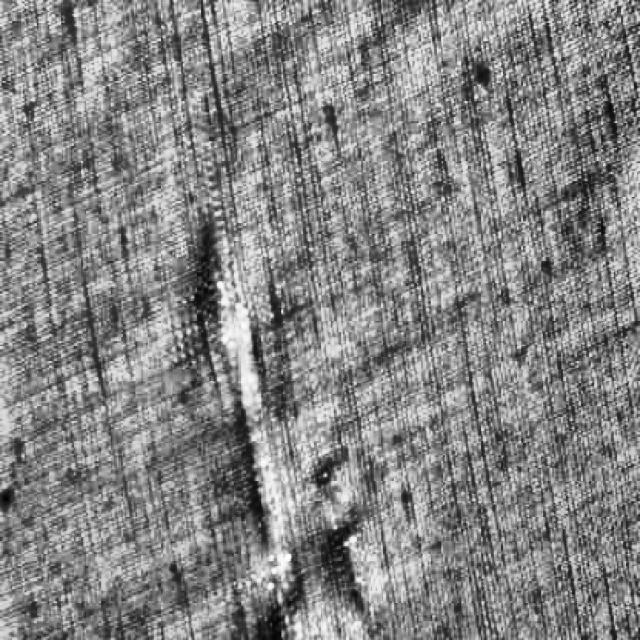thread_error: (190, 212, 316, 640), (318, 436, 391, 640)
